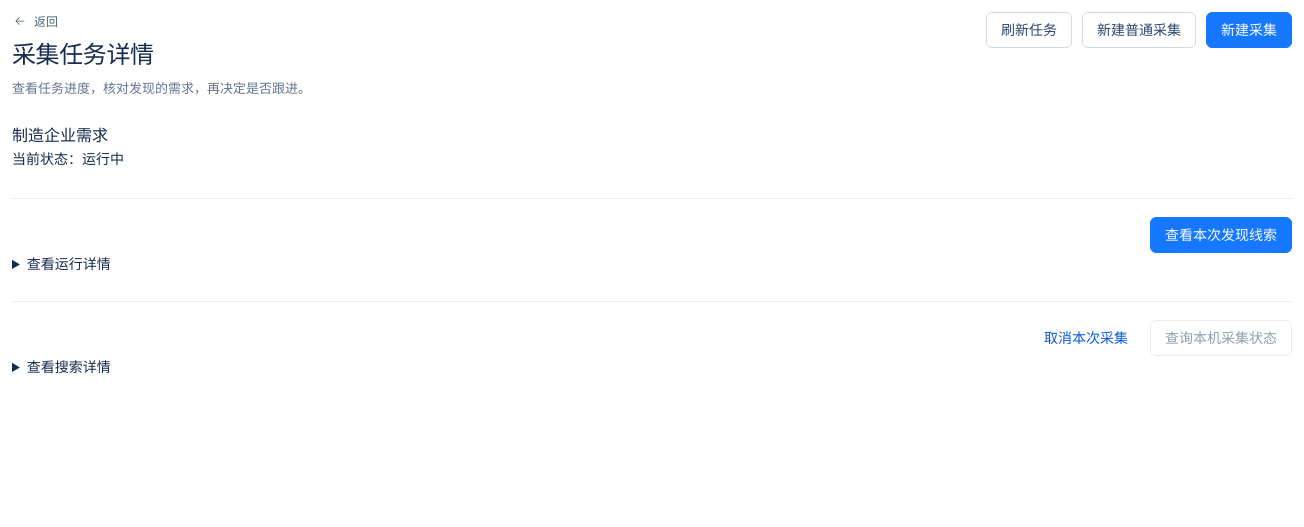
Test: keeps real task details before collapsed search details while retaining expandable coverage
expect the button "查看本次发现线索" is shown: met, box [1150,217,1292,253]
expect the element with class "usage-advanced" showing "查看运行详情" is shown: met, box [27,255,111,272]
Click the heading "查看搜索详情" at (69, 367), box [27,358,111,375]
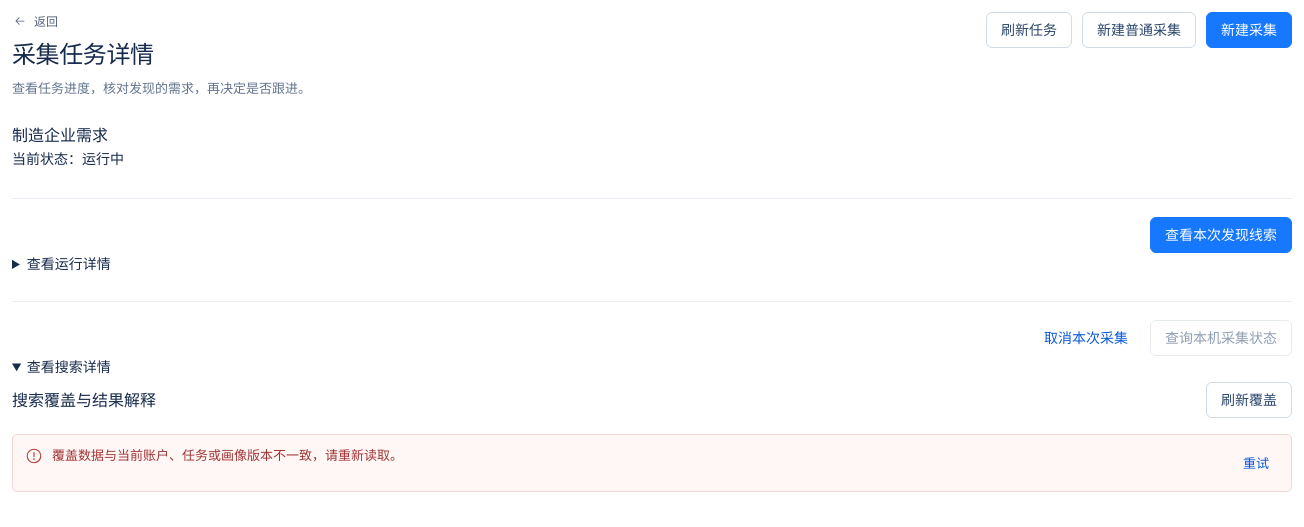
expect the element "搜索覆盖与结果解释" is shown: met, box [12,376,1292,510]
